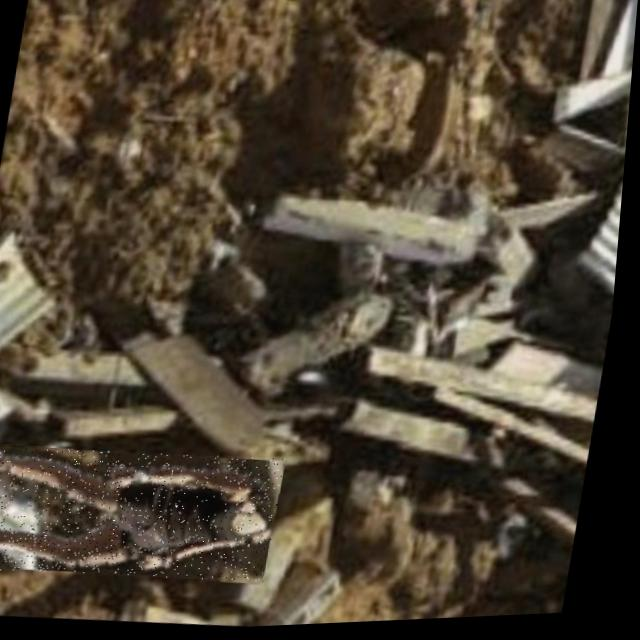Person in Rubble: (0, 434, 293, 595)
